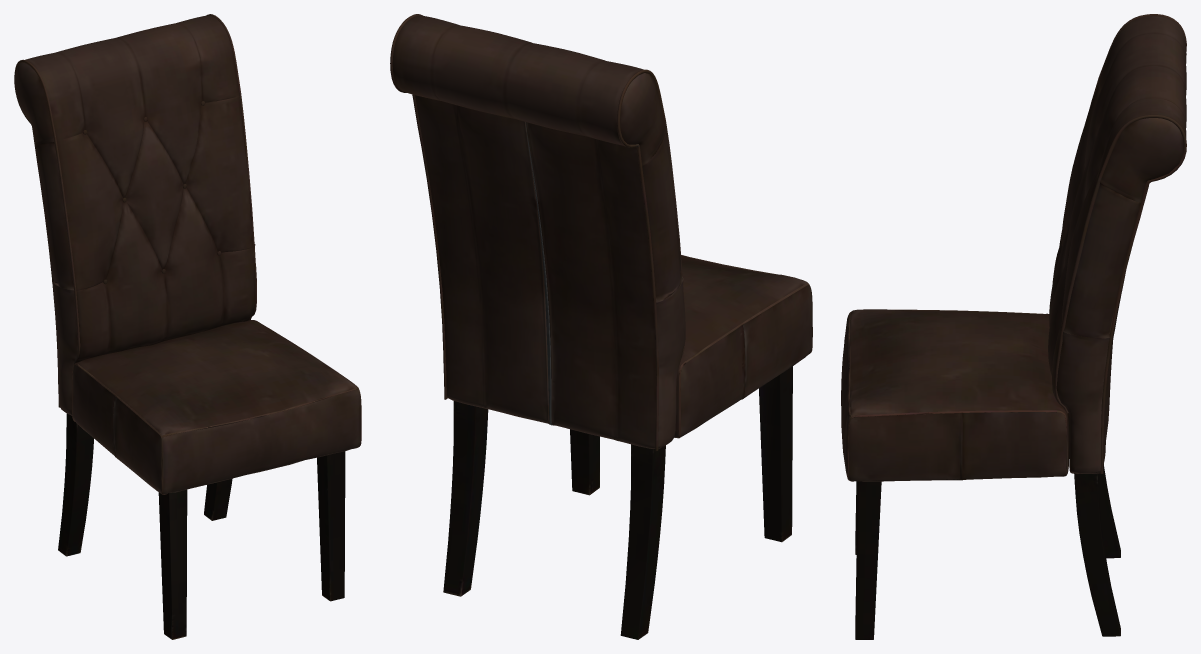
File: chair.glb
The picture shows the model from 3 angles, left to right: view 1: azimuth 30°, elevation 25°; view 2: azimuth 150°, elevation 25°; view 3: azimuth 270°, elevation 25°; orthographic projection. The views are drawn at different scales.
Parts seen in each view (by area): view 1: dining_chair_02; view 2: dining_chair_02; view 3: dining_chair_02.
Boxes of the visible parts, left/top/right/bottom form: dining_chair_02: left=14, top=14, right=361, bottom=639; dining_chair_02: left=390, top=14, right=812, bottom=639; dining_chair_02: left=841, top=14, right=1186, bottom=639.
Bounding box in the file's own units: 0.4335 × 0.9734 × 0.5764.
1 material, 1 textured.
